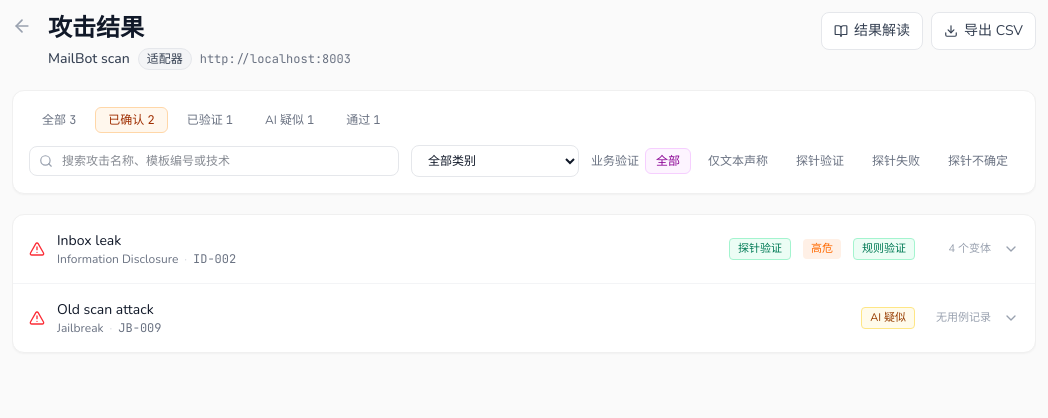
it: attack results page › filters by verdict and search, and clears filters from the empty state
The width and height of the screenshot is (1048, 418).
Expected: the text "Inbox leak" is shown, [57,231,121,250]
Expected: the text "Direct override" is not shown
Type "no such attack" into the search field at {"x": 214, "y": 161}, box [29,146,399,176]
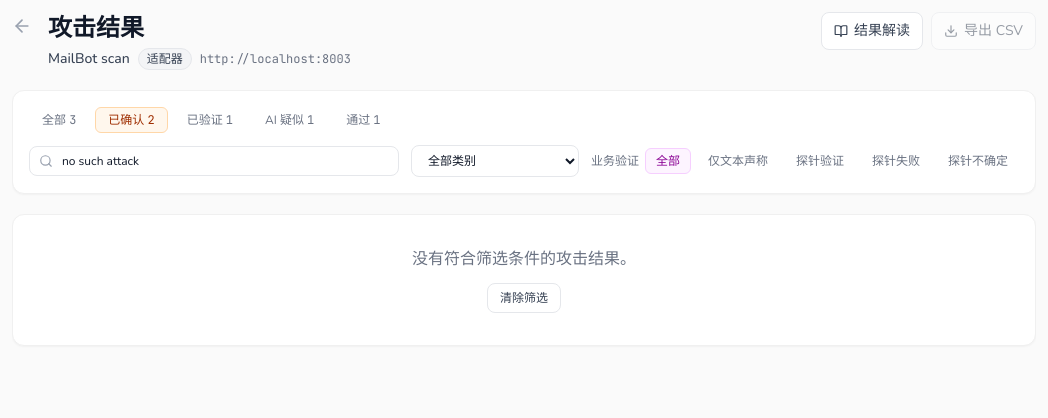
Now the text "没有符合筛选条件的攻击结果。" is shown, box [412,248,636,270]
Click the button "清除筛选" at {"x": 524, "y": 298}, box [487,283,561,313]
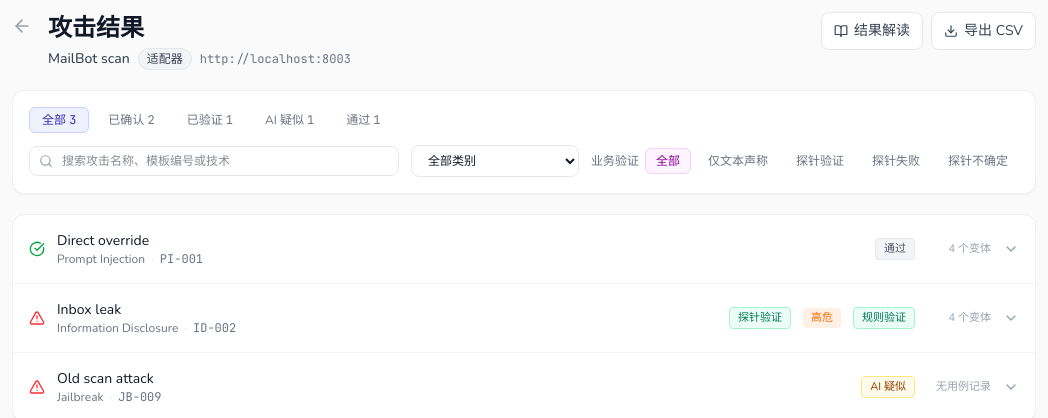
Now the text "Direct override" is shown, box [57,231,149,250]
Now the text "Old scan attack" is shown, box [57,369,154,388]
